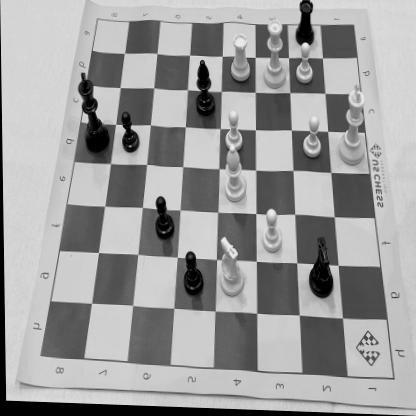black-bishop: (193, 58, 216, 122)
black-king: (74, 72, 112, 158)
black-knight: (302, 234, 336, 304)
black-pawn: (181, 247, 204, 300), (152, 193, 174, 245), (118, 109, 140, 158)
black-rook: (292, 0, 320, 53)
white-bishop: (221, 144, 250, 206)
white-king: (335, 80, 370, 168)
white-knight: (216, 233, 245, 303)
white-pawn: (291, 40, 319, 90), (261, 206, 285, 261), (222, 108, 246, 154), (300, 114, 323, 162)
white-queen: (260, 16, 288, 92)
white-rook: (226, 31, 254, 86)
